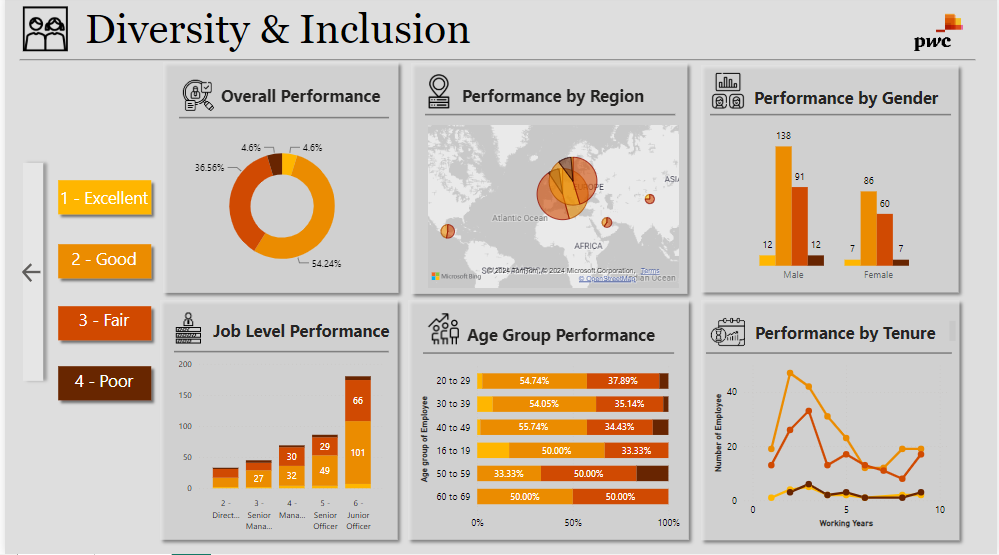

Layout of this report page (visuals, bound fields, positions):
{"tool":"powerbi","page":{"name":"Page 2","canvas":[1280,720],"ordinal":1},"visuals":[{"type":"textbox","title":"Page Title","box":[98.1,6.5,660.6,74.8],"z":0},{"type":"shape","title":"Gender BG","box":[194.3,76.7,321.4,315.7],"z":0,"group":"g1"},{"type":"shape","title":"Perf -1","box":[60.8,230,136,60],"z":0,"group":"g2"},{"type":"basicShape","title":"Page Title line","box":[9.5,62.4,1253,40.5],"z":1000},{"type":"shape","title":"Overall BG","box":[514.3,78.1,374.3,315.7],"z":1000,"group":"g1"},{"type":"shape","title":"Perf - 2","box":[60.8,312,136,60],"z":1000,"group":"g2"},{"type":"image","title":"Page Title icon","box":[18.2,1.6,67.5,81],"z":2000},{"type":"shape","title":"Region BG","box":[888.9,81.1,350,311.1],"z":2000,"group":"g1"},{"type":"shape","title":"Perf - 3","box":[60.8,392,136,60],"z":2000,"group":"g2"},{"type":"shape","title":"AgeGroup BG","box":[190.6,384,324.3,327.1],"z":3000,"group":"g1"},{"type":"shape","title":"Perf - 4","box":[60.8,470,136,60],"z":3000,"group":"g2"},{"type":"shape","title":"Page Nav BG","box":[14.6,206,43.9,299.1],"z":4000},{"type":"textbox","title":"Perf Lists","box":[60.8,240,134,346],"z":4000,"group":"g2"},{"type":"shape","title":"JobLevel BG","box":[510.2,383.5,380,327.1],"z":4000,"group":"g1"},{"type":"image","title":"Pwc Icon","box":[1129,0,151,94.2],"z":5000},{"type":"shape","title":"Perf Tenure BG","box":[889.2,383.4,351.1,327.8],"z":5000,"group":"g1"},{"type":"actionButton","title":"Page Nav Button","box":[18.6,210,33.2,293.7],"z":6000},{"type":"group","id":"g1","title":"Perf Page BGs","box":[190.6,76.7,1049.7,634.4],"z":6500},{"type":"clusteredColumnChart","title":"Chart of Perf Gender","fields":{"Category":["HR Manager.Gender"],"Series":["HR Manager.FY20 Performance Rating"],"Y":["CountNonNull(HR Manager.Employee ID)"]},"box":[869.7,158.7,405.2,219.4],"z":7000},{"type":"hundredPercentStackedBarChart","title":"Chart of Perf Overall","fields":{"Category":["HR Manager.Age group"],"Series":["HR Manager.FY20 Performance Rating"],"Y":["CountNonNull(HR Manager.FY20 Performance Rating)"]},"box":[530,461.4,345.7,235.7],"z":8000},{"type":"map","title":"Chart of Perf Region","fields":{"Category":["HR Manager.Region group: nationality 1"],"Series":["HR Manager.FY20 Performance Rating"],"Size":["Sum(HR Manager.FY20 Performance Rating)"]},"box":[540,161.4,334.3,220],"z":9000},{"type":"columnChart","title":"Chart of Perf AgeGroup","fields":{"Series":["HR Manager.FY20 Performance Rating"],"Category":["HR Manager.Job Level after FY20 promotions"],"Y":["CountNonNull(HR Manager.Employee ID)"]},"box":[218.2,461.1,277.1,238.6],"z":10000},{"type":"donutChart","title":"Chart of Perf JobLevel","fields":{"Y":["CountNonNull(HR Manager.FY20 Performance Rating)"],"Category":["HR Manager.FY20 Performance Rating"]},"box":[230,170,255.7,201.4],"z":11000},{"type":"lineChart","title":"Chart of Perf Tenure","fields":{"Category":["HR Manager.Years since last hire"],"Y":["CountNonNull(HR Manager.Employee ID)"],"Series":["HR Manager.FY20 Performance Rating"]},"box":[910,461.4,311.4,228.6],"z":12000},{"type":"group","id":"g2","title":"PerformanceList","box":[60.8,230,136,356],"z":13000},{"type":"shape","title":"Line of Perf Gender","box":[223.9,135.7,271.4,42.9],"z":14000},{"type":"textbox","title":"Perf Gender Title","box":[584.3,108.6,290,38.6],"z":15000},{"type":"shape","title":"Line of Overall Perf","box":[541.4,131.4,322.9,42.9],"z":16000},{"type":"textbox","title":"Overall Perf Title","box":[273.9,108.6,251.4,52.9],"z":17000},{"type":"shape","title":"Line of Perf Region","box":[910,131.4,311.4,42.9],"z":18000},{"type":"textbox","title":"Perf Region Title","box":[961.4,111.4,308.6,38.6],"z":19000},{"type":"shape","title":"Line of Perf AgeGroup","box":[218.2,436.8,277.1,42.9],"z":20000},{"type":"textbox","title":"Perf AgeGroup Title","box":[263.4,411.1,270,48.6],"z":21000},{"type":"shape","title":"Line of Perf JobLevel","box":[539.6,439.7,324.3,41.4],"z":22000},{"type":"textbox","title":"Perf JobLevel Title","box":[590.8,417.1,264,52],"z":23000},{"type":"shape","title":"Line of Perf Tenure","box":[903.9,439.7,317.1,41.4],"z":24000},{"type":"textbox","title":"Perf Tenure Title","box":[962.4,414,268.6,37.1],"z":25000},{"type":"image","title":"Perf Gender Icon","box":[901.4,94.3,61.4,55.7],"z":26000},{"type":"image","title":"Perf Overall Icon","box":[223.9,98.6,50,60],"z":26500},{"type":"image","title":"Perf Region Icon","box":[532.9,88.6,54.3,67.1],"z":27000},{"type":"image","title":"Perf AgeGroup Icon","box":[540.8,396.8,50,64.3],"z":28000},{"type":"image","title":"Perf JobLevel Icon","box":[212,396.8,50,61.4],"z":29000},{"type":"image","title":"Perf Tenure Icon","box":[905.3,396.8,54.3,71.4],"z":30000}]}

Visuals, with their boxes in screenshot pixels (x1, y1, x2, y2), scaled from the page's 1280x720 canvas onto the 999x555 screenshot:
"Page Title" textbox: 77/5/592/63
"Gender BG" shape: 152/59/402/302
"Perf -1" shape: 47/177/154/224
"Page Title line" basicShape: 7/48/985/79
"Overall BG" shape: 401/60/694/304
"Perf - 2" shape: 47/240/154/287
"Page Title icon" image: 14/1/67/64
"Region BG" shape: 694/63/967/302
"Perf - 3" shape: 47/302/154/348
"AgeGroup BG" shape: 149/296/402/548
"Perf - 4" shape: 47/362/154/409
"Page Nav BG" shape: 11/159/46/389
"Perf Lists" textbox: 47/185/152/452
"JobLevel BG" shape: 398/296/695/548
"Pwc Icon" image: 881/0/998/73
"Perf Tenure BG" shape: 694/296/968/548
"Page Nav Button" actionButton: 15/162/40/388
"Perf Page BGs" group: 149/59/968/548
"Chart of Perf Gender" clusteredColumnChart: 679/122/995/291
"Chart of Perf Overall" hundredPercentStackedBarChart: 414/356/683/537
"Chart of Perf Region" map: 421/124/682/294
"Chart of Perf AgeGroup" columnChart: 170/355/387/539
"Chart of Perf JobLevel" donutChart: 180/131/379/286
"Chart of Perf Tenure" lineChart: 710/356/953/532
"PerformanceList" group: 47/177/154/452
"Line of Perf Gender" shape: 175/105/387/138
"Perf Gender Title" textbox: 456/84/682/113
"Line of Overall Perf" shape: 423/101/675/134
"Overall Perf Title" textbox: 214/84/410/124
"Line of Perf Region" shape: 710/101/953/134
"Perf Region Title" textbox: 750/86/991/116
"Line of Perf AgeGroup" shape: 170/337/387/370
"Perf AgeGroup Title" textbox: 206/317/416/354
"Line of Perf JobLevel" shape: 421/339/674/371
"Perf JobLevel Title" textbox: 461/322/667/362
"Line of Perf Tenure" shape: 705/339/953/371
"Perf Tenure Title" textbox: 751/319/961/348
"Perf Gender Icon" image: 704/73/751/116
"Perf Overall Icon" image: 175/76/214/122
"Perf Region Icon" image: 416/68/458/120
"Perf AgeGroup Icon" image: 422/306/461/355
"Perf JobLevel Icon" image: 165/306/204/353
"Perf Tenure Icon" image: 707/306/749/361
